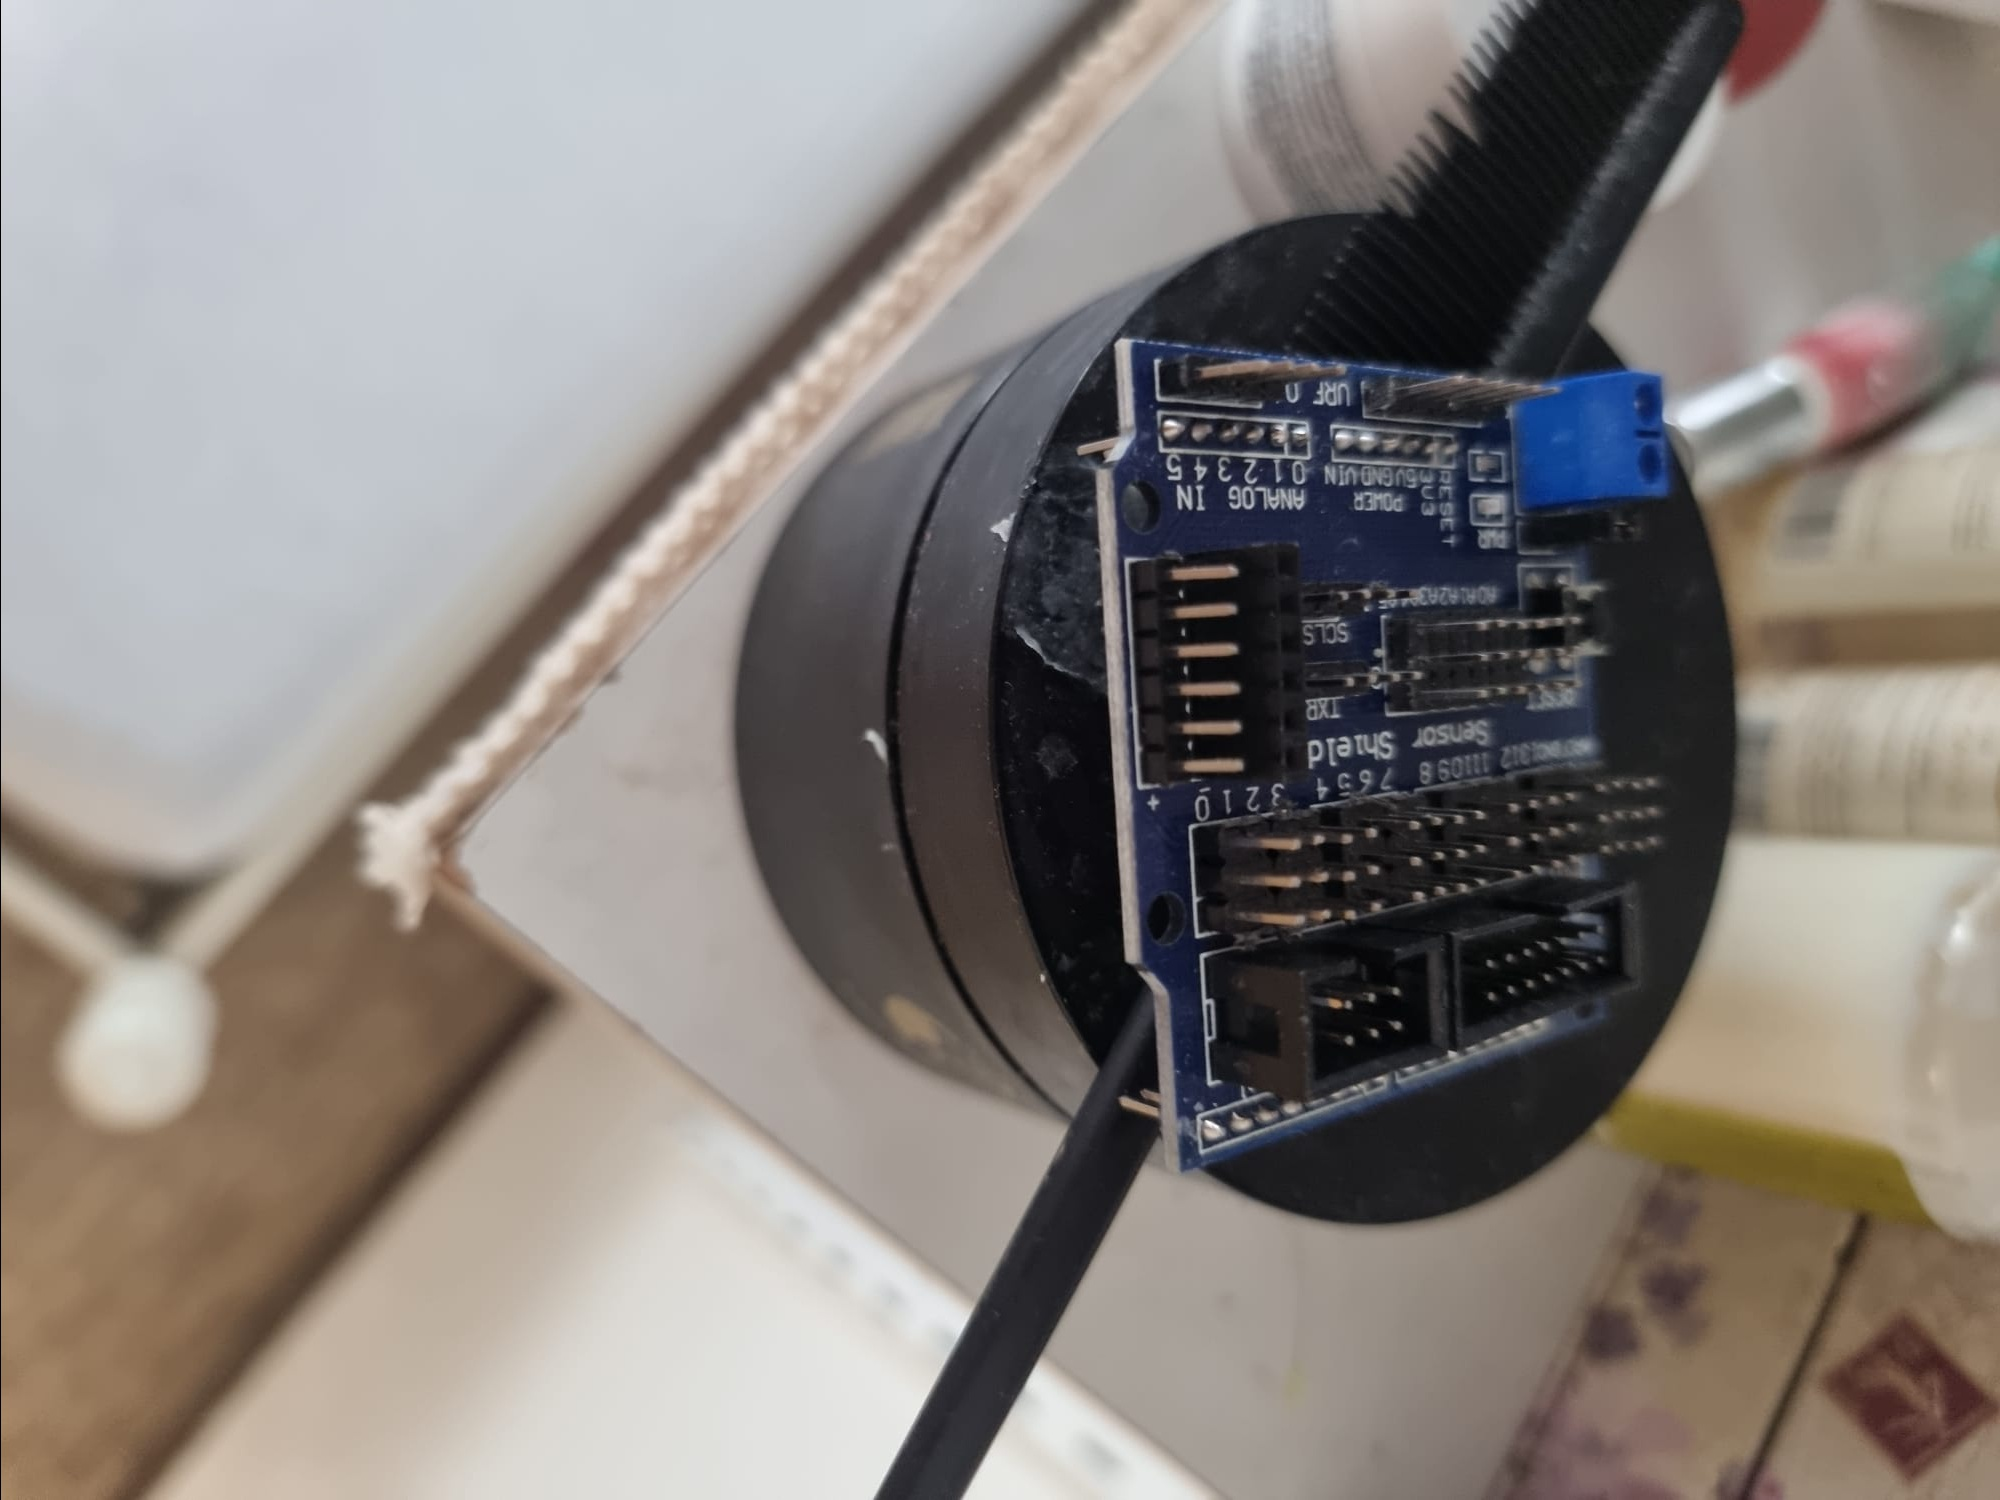5V EXPANSION: (1143, 350, 1676, 1164)
